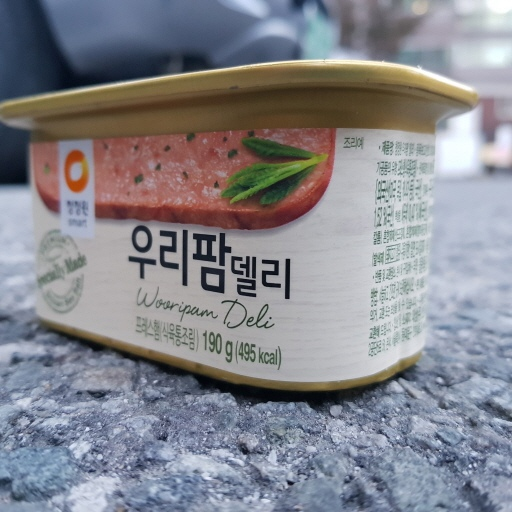Metal_2: (1, 59, 478, 394)
